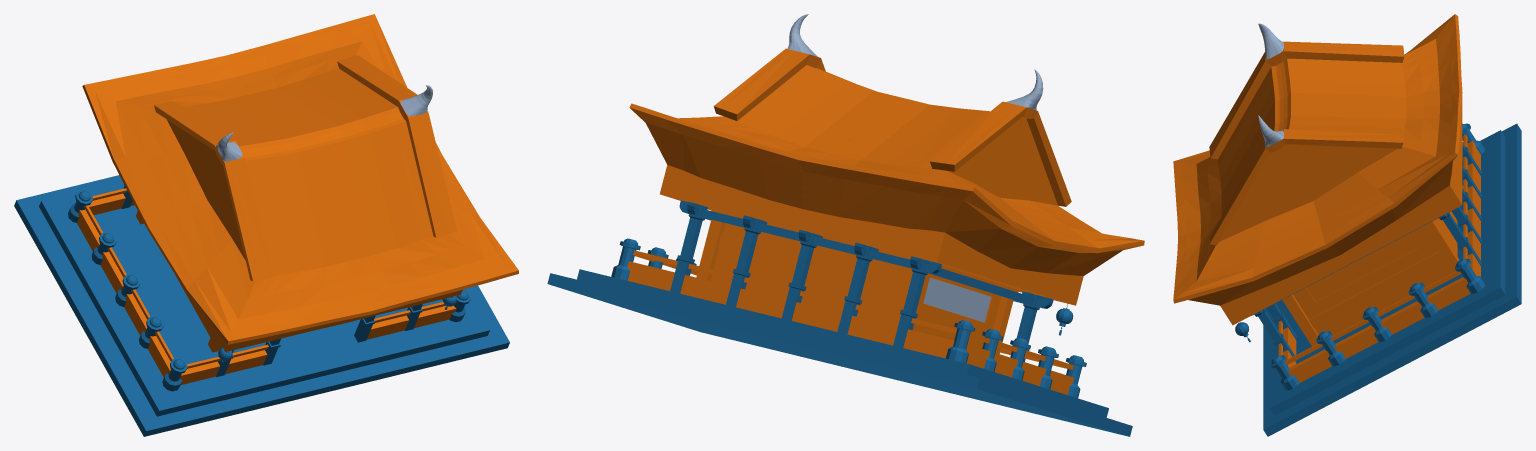
The model's file is temple_k3.glb.
3 views of the same model, side by side, from view 1: azimuth 30°, elevation 25°; view 2: azimuth 150°, elevation 25°; view 3: azimuth 270°, elevation 25° (orthographic). The views are drawn at different scales.
Visible parts, largest first — view 1: world; view 2: world; view 3: world.
Part boxes in pixels (x1,y1,x2,y2): world: (14, 14, 518, 436); world: (547, 14, 1144, 436); world: (1173, 14, 1521, 436).
Bounding box in the file's own units: 1.52 × 1.15 × 1.29.
